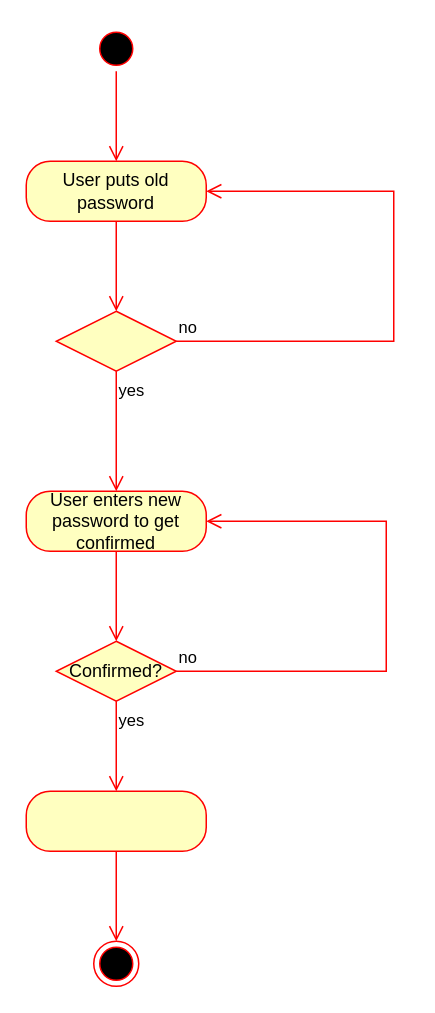
Image size: 435x1013. Some labels were removed from this diagram. Each missing label, with the centre of its shape:
"Is it valid?" goes at (115,340).
"Login is successful" goes at (115,820).
